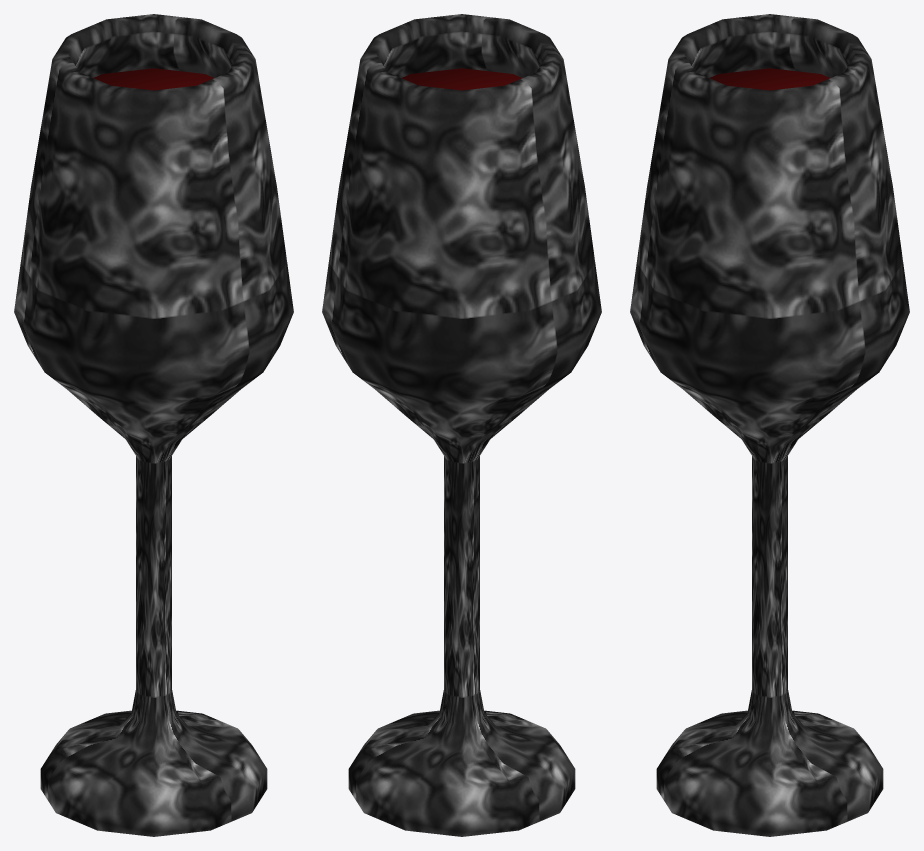
The model's file is WineGlass.fbx.
The picture shows the model from 3 angles, left to right: view 1: azimuth 30°, elevation 25°; view 2: azimuth 150°, elevation 25°; view 3: azimuth 270°, elevation 25°; orthographic projection.
Visible parts, largest first — view 1: Circle; view 2: Circle; view 3: Circle.
Part boxes in pixels (box(x1,y1,x2,y2)): Circle: box(14, 14, 293, 836); Circle: box(322, 14, 601, 836); Circle: box(630, 14, 909, 836).
Size of the model in its own units: 3211 by 9304 by 3211.
Materials: 2 (1 with a texture image).
